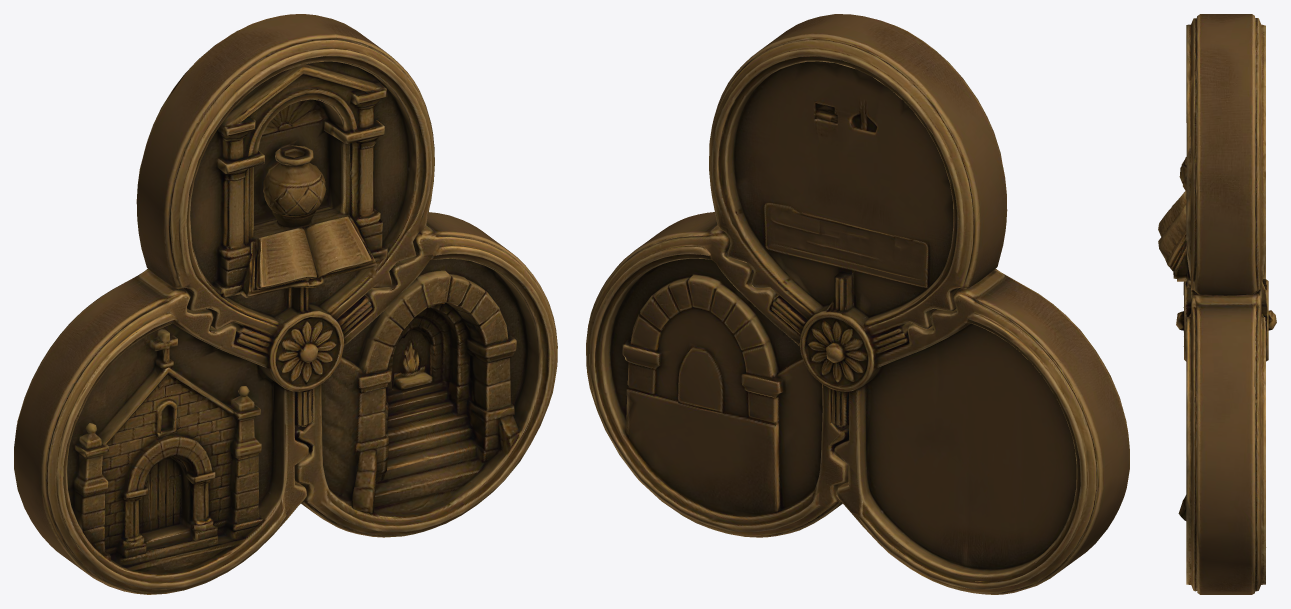
Rendered from 3D-environment-seal.glb.
3 views of the same model, side by side, from view 1: azimuth 30°, elevation 25°; view 2: azimuth 150°, elevation 25°; view 3: azimuth 270°, elevation 25° (orthographic). The views are drawn at different scales.
Visible parts, largest first — view 1: tripo_node_df2d6dce-ef28-4761-8a33-5627252ea18d; view 2: tripo_node_df2d6dce-ef28-4761-8a33-5627252ea18d; view 3: tripo_node_df2d6dce-ef28-4761-8a33-5627252ea18d.
Boxes of the visible parts, x1=… form: tripo_node_df2d6dce-ef28-4761-8a33-5627252ea18d: x1=14, y1=14, x2=557, y2=594; tripo_node_df2d6dce-ef28-4761-8a33-5627252ea18d: x1=586, y1=14, x2=1129, y2=594; tripo_node_df2d6dce-ef28-4761-8a33-5627252ea18d: x1=1158, y1=14, x2=1276, y2=594.
Bounding box in the file's own units: 0.98 × 0.9479 × 0.2044.
1 material, 1 textured.
